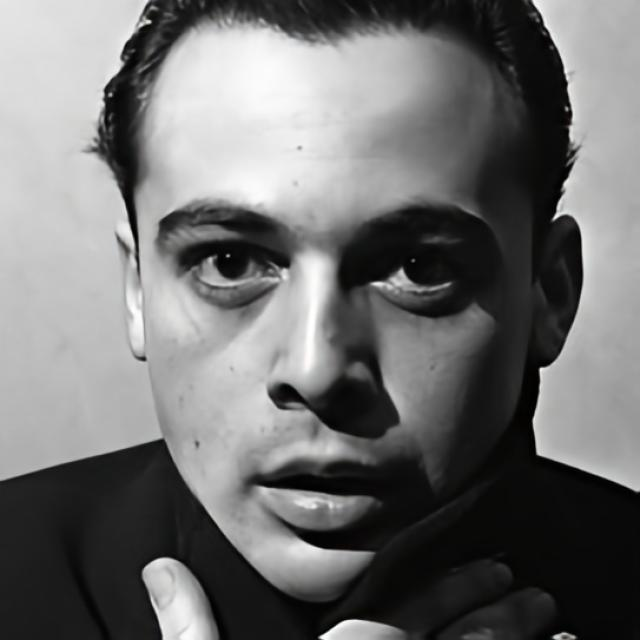neutral: (139, 53, 532, 594)
